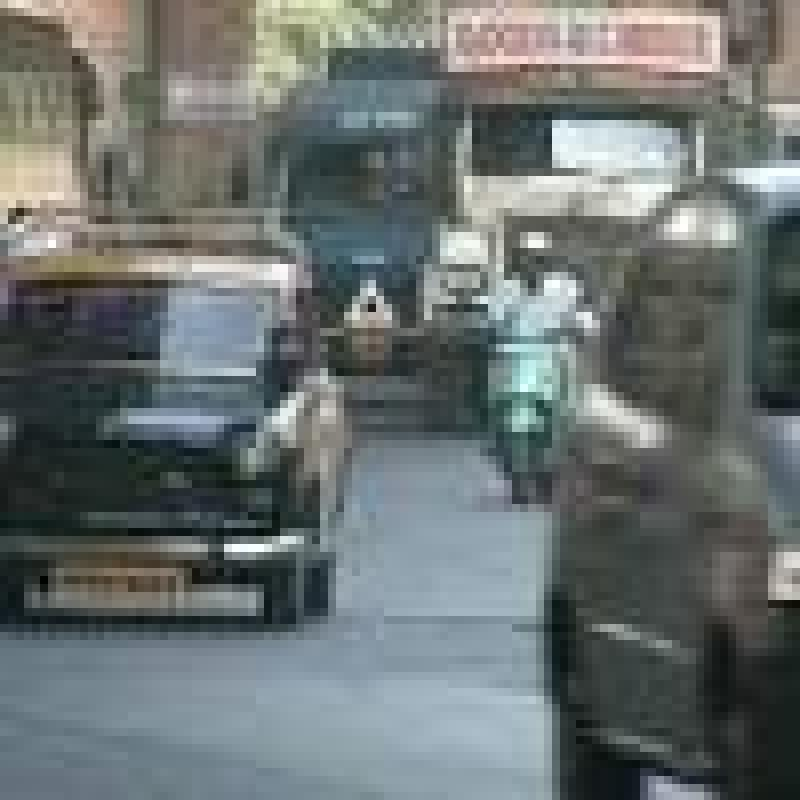car: (0, 211, 345, 648)
